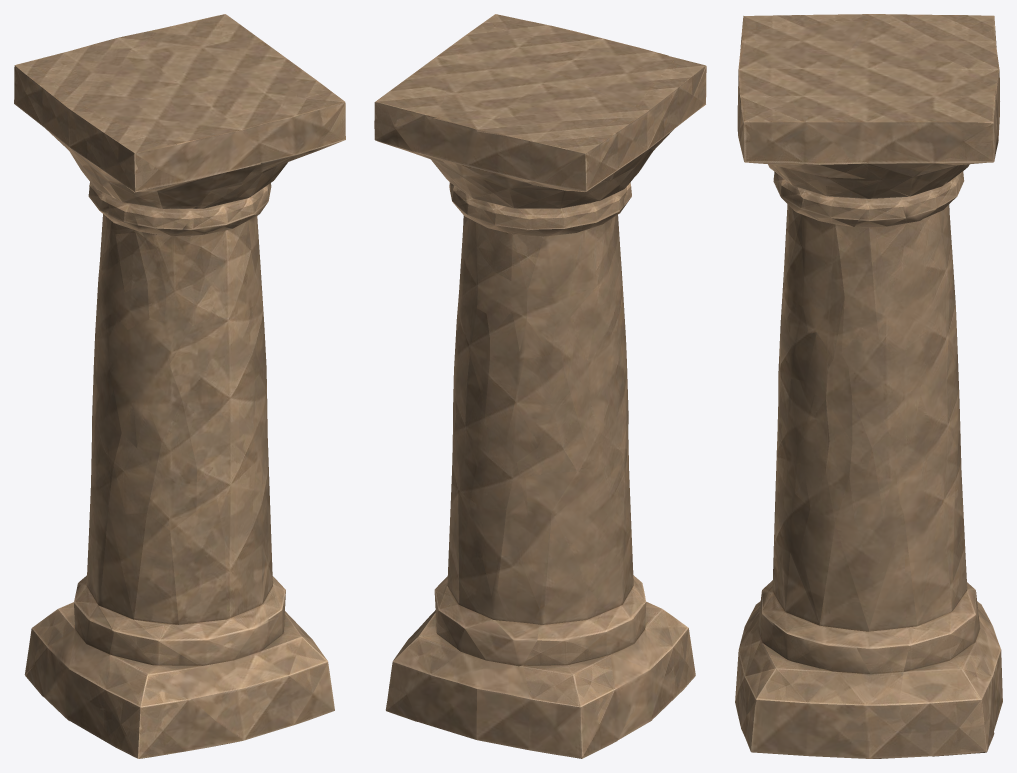
File: pillar.glb
3 renders of one model, left to right at view 1: azimuth 30°, elevation 25°; view 2: azimuth 150°, elevation 25°; view 3: azimuth 270°, elevation 25°, orthographic. The views are drawn at different scales.
Size of the model in its own units: 0.7279 by 1.9 by 0.7283.
Materials: 1 (1 with a texture image).
